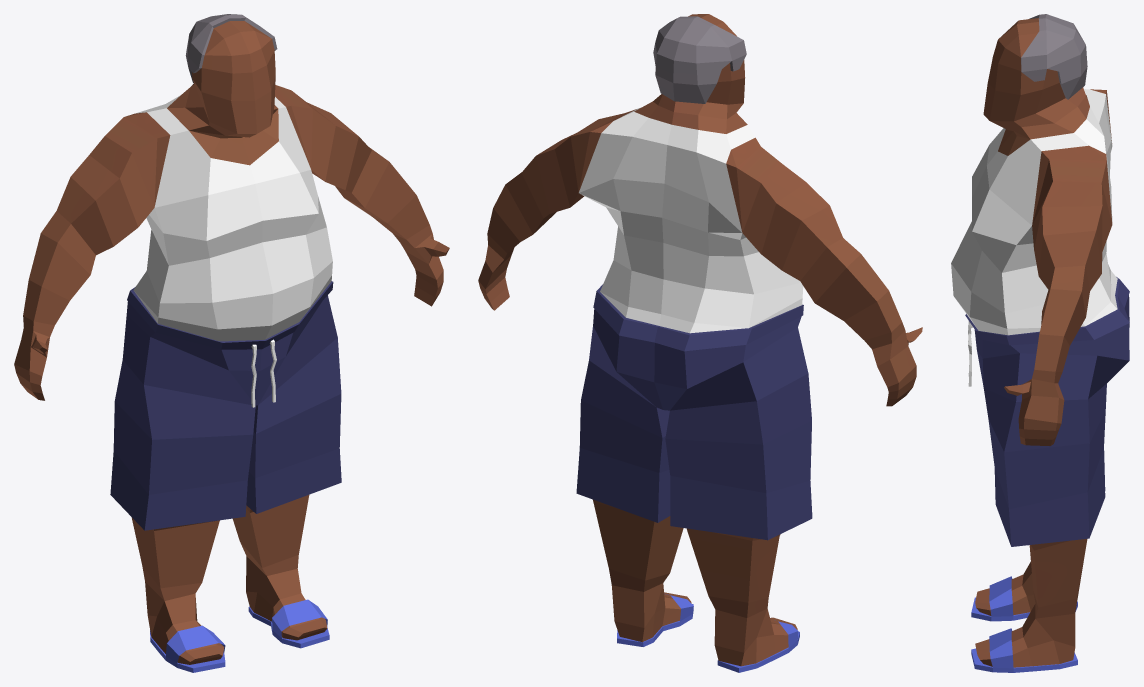
Rendered from ped_male03.glb.
3 views of the same model, side by side, from view 1: azimuth 30°, elevation 25°; view 2: azimuth 150°, elevation 25°; view 3: azimuth 270°, elevation 25° (orthographic). The views are drawn at different scales.
Visible parts, largest first — view 1: male_03_a_palette_0; view 2: male_03_a_palette_0; view 3: male_03_a_palette_0.
Part boxes in pixels (x1,y1,x2,y2): male_03_a_palette_0: [14, 14, 449, 672]; male_03_a_palette_0: [478, 14, 922, 672]; male_03_a_palette_0: [951, 14, 1129, 672].
Size of the model in its own units: 1.31 by 1.87 by 0.49.
Materials: 1 (1 with a texture image).
